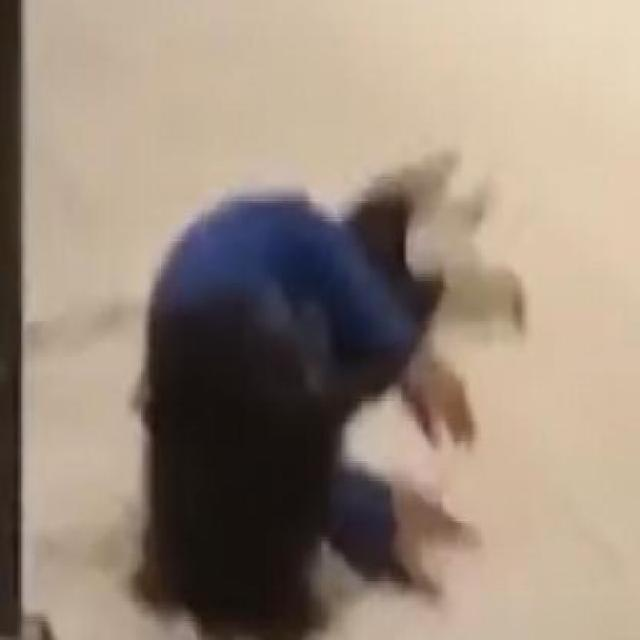fall: (139, 153, 519, 625)
